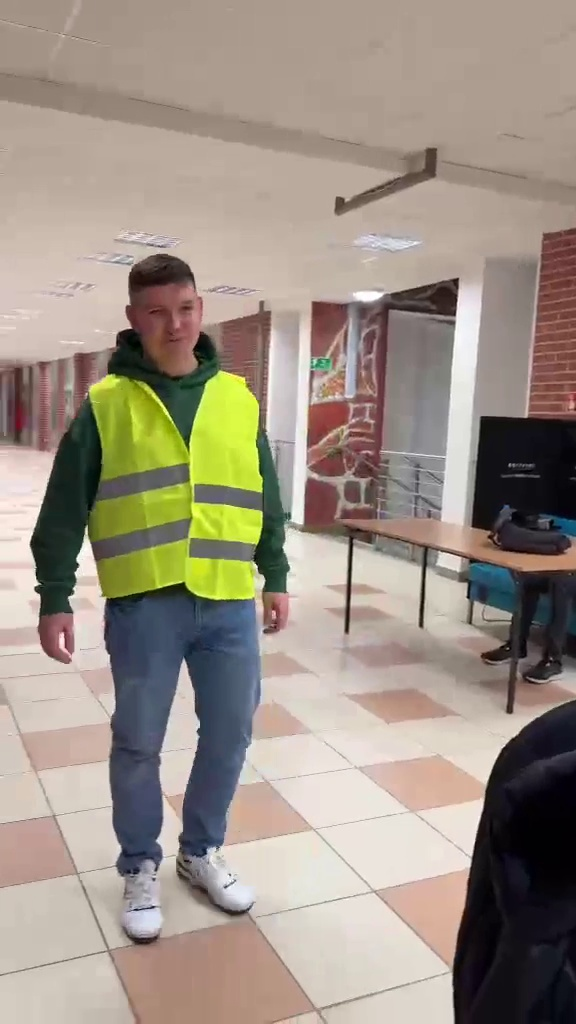vest: (31, 249, 292, 942)
